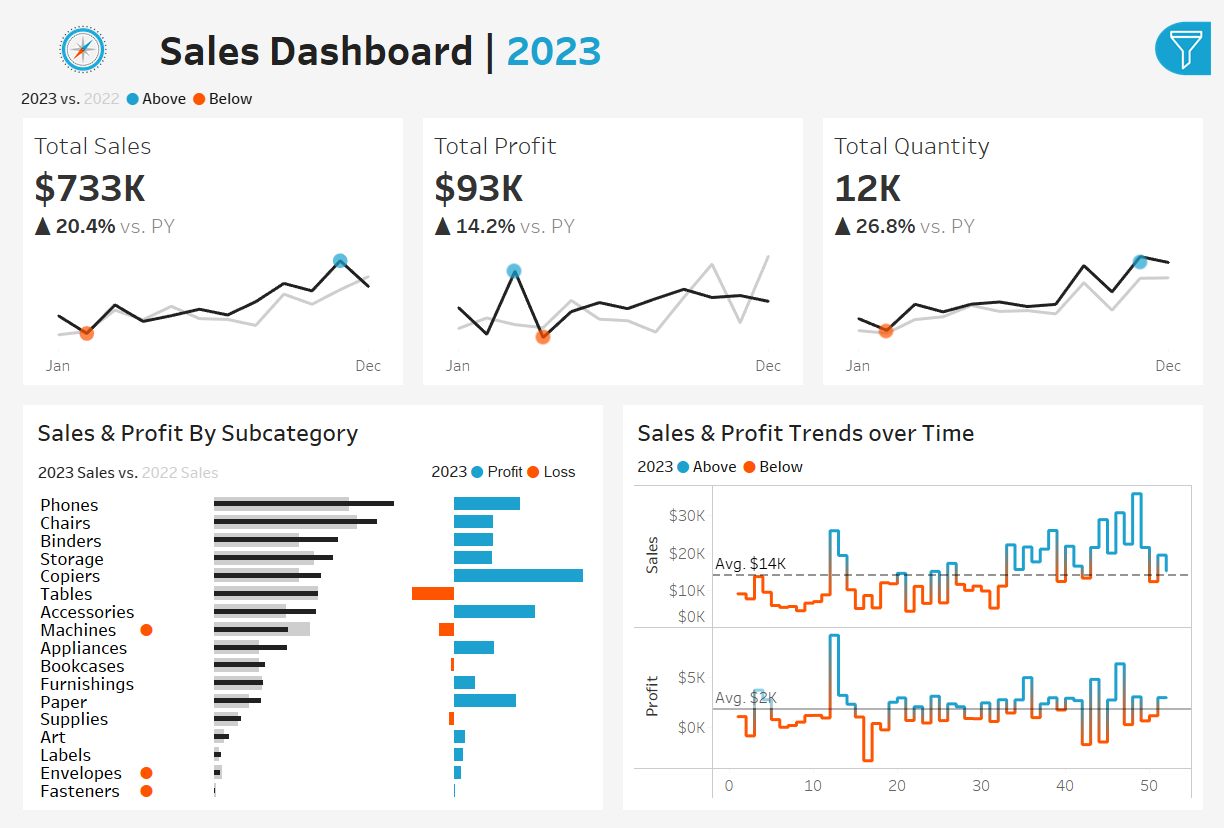

The dashboard page shown, as its layout file describes it:
{"tool":"tableau","page":{"name":"Sales Dashboard","canvas":[1200,800],"ordinal":0},"visuals":[{"type":"image","param":"C:/Users/lichm/OneDrive/Plocha/Tableau Data/TableauProject-SalesDashboard/Dashbo","box":[0,0,139,58]},{"type":"text","box":[139,0,794,58]},{"type":"blank","box":[966,0,233,74]},{"type":"worksheet","title":"Legend KPI","mark":"Automatic","box":[0,58,1200,40]},{"type":"text","box":[966,74,233,40]},{"type":"worksheet","title":"KPI Sales","mark":"Line","rows":["Calculation_1391612326400131076"],"cols":["Order Date"],"box":[0,98,400,277]},{"type":"worksheet","title":"KPI Profit","mark":"Line","rows":["Calculation_1442277823597641734"],"cols":["Order Date"],"box":[400,98,400,277]},{"type":"worksheet","title":"KPI Quantity","mark":"Line","rows":["Calculation_1442277823610089489"],"cols":["Order Date"],"box":[800,98,400,277]},{"type":"parameter","param":"[Parameters].[Parameter 1]","box":[966,114,233,56]},{"type":"text","box":[966,170,233,33]},{"type":"filter","title":"KPI Sales","param":"[federated.1jzjwjh1y2pk0o1cebskm1n2bbqr].[none:Category:nk]","box":[966,203,233,61]},{"type":"filter","title":"KPI Sales","param":"[federated.1jzjwjh1y2pk0o1cebskm1n2bbqr].[none:Sub-Category:nk]","box":[966,264,233,61]},{"type":"blank","box":[966,325,233,39]},{"type":"text","box":[966,364,233,33]},{"type":"text","box":[17,392,566,40]},{"type":"text","box":[617,392,566,40]},{"type":"filter","title":"KPI Sales","param":"[federated.1jzjwjh1y2pk0o1cebskm1n2bbqr].[none:Region:nk]","box":[966,397,233,61]},{"type":"worksheet","title":"Legend Subcategory","mark":"Automatic","box":[17,432,394,39]},{"type":"text","box":[411,432,172,39]},{"type":"text","box":[617,432,566,29]},{"type":"filter","title":"KPI Sales","param":"[federated.1jzjwjh1y2pk0o1cebskm1n2bbqr].[none:State:nk]","box":[966,458,233,61]},{"type":"worksheet","title":"Weekly Trends","mark":"Automatic","rows":["Calculation_1391612326392766464","Calculation_1391612326413369355"],"cols":["Order Date"],"box":[617,461,566,322]},{"type":"worksheet","title":"Subcategory Comparison","mark":"Bar","rows":["Sub-Category","Calculation_1391612326415691788"],"cols":["CY Sales (copy)_1391612326393315329","Calculation_1391612326392766464","Calculation_1391612326413369355"],"box":[17,471,566,312]},{"type":"filter","title":"KPI Sales","param":"[federated.1jzjwjh1y2pk0o1cebskm1n2bbqr].[none:City:nk]","box":[966,519,233,61]}]}

Visuals, with their boxes in screenshot pixels (x1, y1, x2, y2), scaled from the page's 1200x800 canvas onto the 1224x828 screenshot:
image: 0, 0, 142, 60
text: 142, 0, 952, 60
blank: 985, 0, 1223, 77
"Legend KPI" worksheet: 0, 60, 1223, 101
text: 985, 77, 1223, 118
"KPI Sales" worksheet (Line marks): 0, 101, 408, 388
"KPI Profit" worksheet (Line marks): 408, 101, 816, 388
"KPI Quantity" worksheet (Line marks): 816, 101, 1223, 388
parameter: 985, 118, 1223, 176
text: 985, 176, 1223, 210
"KPI Sales" filter: 985, 210, 1223, 273
"KPI Sales" filter: 985, 273, 1223, 336
blank: 985, 336, 1223, 377
text: 985, 377, 1223, 411
text: 17, 406, 595, 447
text: 629, 406, 1207, 447
"KPI Sales" filter: 985, 411, 1223, 474
"Legend Subcategory" worksheet: 17, 447, 419, 487
text: 419, 447, 595, 487
text: 629, 447, 1207, 477
"KPI Sales" filter: 985, 474, 1223, 537
"Weekly Trends" worksheet: 629, 477, 1207, 810
"Subcategory Comparison" worksheet (Bar marks): 17, 487, 595, 810
"KPI Sales" filter: 985, 537, 1223, 600
